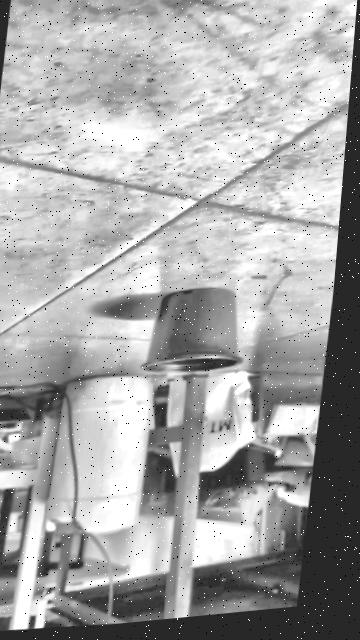pot: (141, 283, 251, 380)
